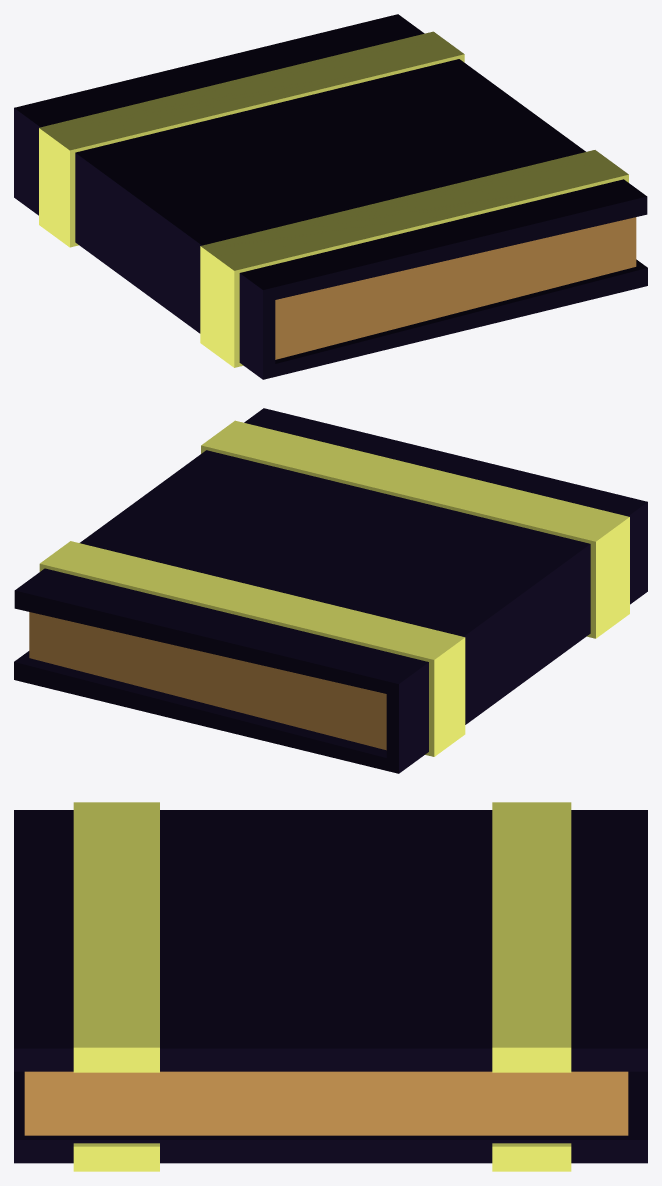
File: Book 16.fbx
3 renders of one model, top to bottom at view 1: azimuth 30°, elevation 25°; view 2: azimuth 150°, elevation 25°; view 3: azimuth 270°, elevation 25°, orthographic. The views are drawn at different scales.
Visible parts, largest first — view 1: Node 0; view 2: Node 0; view 3: Node 0.
Boxes of the visible parts, left/top/right/bottom form: Node 0: left=14, top=14, right=647, bottom=379; Node 0: left=14, top=408, right=647, bottom=773; Node 0: left=14, top=802, right=647, bottom=1171.
Size of the model in its own units: 0.2241 by 0.0482 by 0.2054.
